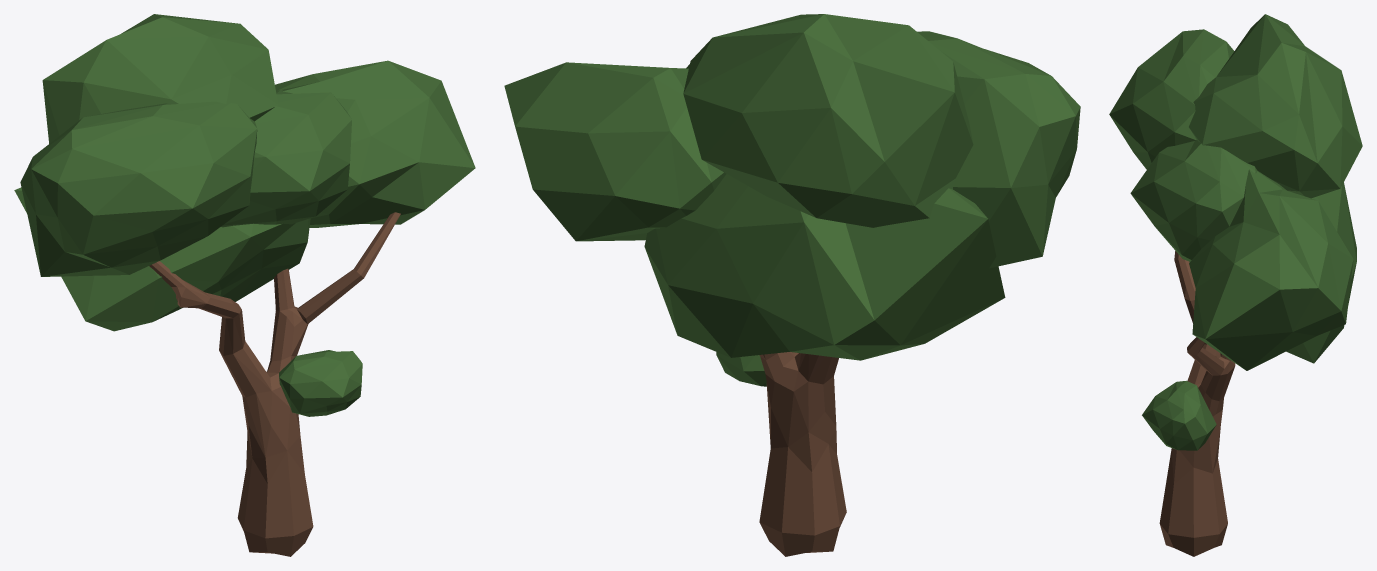
Rendered from Tree2.2.fbx.
The picture shows the model from 3 angles, left to right: view 1: azimuth 30°, elevation 25°; view 2: azimuth 150°, elevation 25°; view 3: azimuth 270°, elevation 25°; orthographic projection. The views are drawn at different scales.
Parts seen in each view (by area): view 1: Tree2.2; view 2: Tree2.2; view 3: Tree2.2.
Part boxes in pixels (x1,y1,x2,y2): Tree2.2: [14, 14, 475, 556]; Tree2.2: [504, 14, 1080, 556]; Tree2.2: [1109, 14, 1362, 556].
Bounding box in the file's own units: 649 × 709 × 340.
